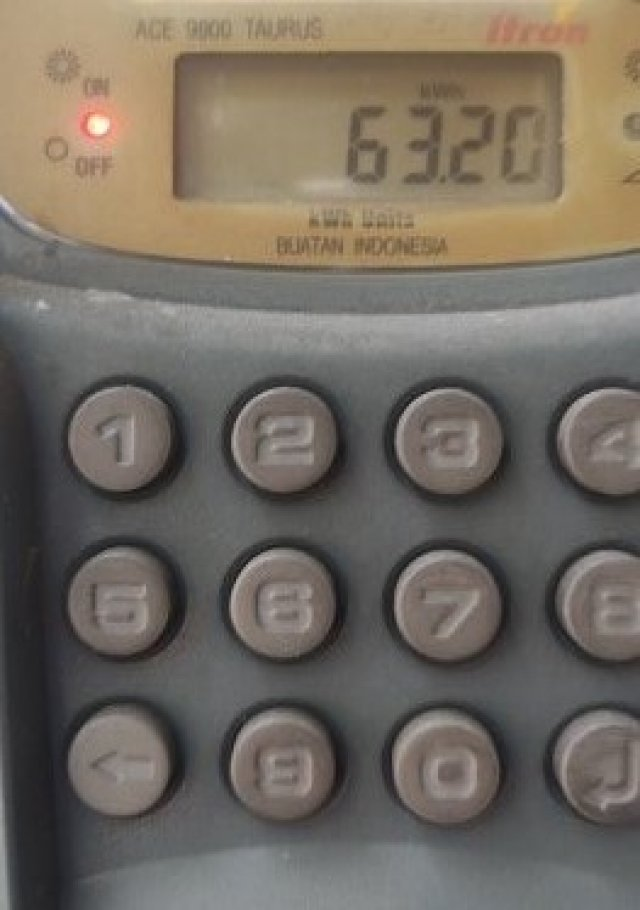box: (174, 54, 559, 201)
